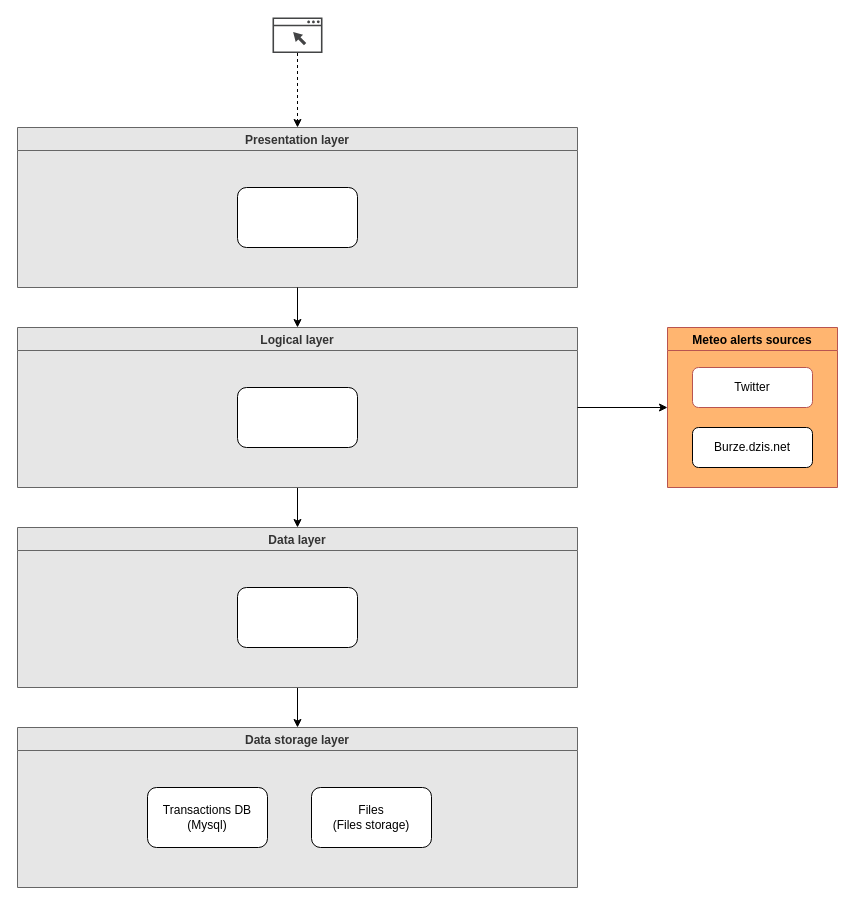
This 855x905 diagram has some shape labels left out. The shapes that lost their labels are listed below. From the top down, each one's centre as x and y in pixels, then its label:
pixel 297 34: Web browser
pixel 297 217: Web server (Tomcat)
pixel 297 417: Java App (Spring Boot)
pixel 297 617: JPA API (Hibernate)
